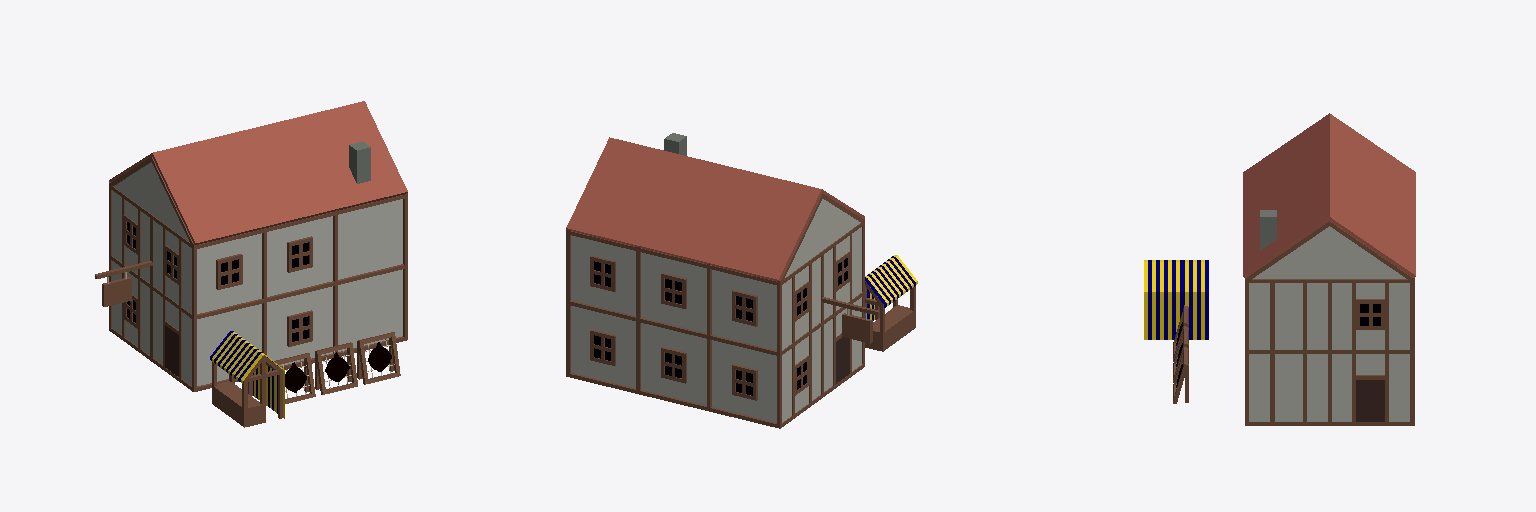
The model's file is timberframedtanner_blue_yellow.obj.
The picture shows the model from 3 angles: view 1: azimuth 30°, elevation 25°; view 2: azimuth 150°, elevation 25°; view 3: azimuth 270°, elevation 25°; orthographic projection.
Visible parts, largest first — view 1: Cube.005, Cube.007_Cube.011, Cylinder.001_Cylinder.008, Cylinder.003_Cylinder.001, Cylinder.004_Cylinder.009, Cube.011_Cube.015, Cube.018_Cube.016, Cube.056_Cube.081, Cube.001_Cube.058, Cube.013_Cube.080, Cube.006_Cube.010, Cube.026_Cube.019 (+7 smaller); view 2: Cube.005, Cube.007_Cube.011, Cube.023_Cube.026, Cube.022_Cube.025, Cube.021_Cube.024, Cube.015_Cube.020, Cube.019_Cube.022, Cube.017_Cube.021, Cube.014_Cube.018, Cube.008, Cube.020_Cube.023, Cube.073_Cube.078 (+6 smaller); view 3: Cube.005, Cube.007_Cube.011, Cube.147_Cube.153, Cube.003, Cube.033, Cube.027, Cube.047_Cube.049, Cube.016_Cube.013, Cube.031, Cube.006_Cube.010, Cube.032, Cylinder.001_Cylinder.008 (+5 smaller).
Boxes of the visible parts, <box> form: Cube.005: <box>112,162,402,385</box>; Cube.007_Cube.011: <box>109,101,407,244</box>; Cylinder.001_Cylinder.008: <box>357,332,400,384</box>; Cylinder.003_Cylinder.001: <box>315,342,357,394</box>; Cylinder.004_Cylinder.009: <box>274,353,315,403</box>; Cube.011_Cube.015: <box>195,264,406,319</box>; Cube.018_Cube.016: <box>195,195,406,249</box>; Cube.056_Cube.081: <box>216,254,242,289</box>; Cube.001_Cube.058: <box>287,310,312,346</box>; Cube.013_Cube.080: <box>287,236,312,272</box>; Cube.006_Cube.010: <box>349,141,370,183</box>; Cube.026_Cube.019: <box>192,243,196,391</box>; Cube.005: <box>571,199,861,422</box>; Cube.007_Cube.011: <box>566,137,864,280</box>; Cube.023_Cube.026: <box>567,373,779,427</box>; Cube.022_Cube.025: <box>567,301,776,355</box>; Cube.021_Cube.024: <box>567,231,777,284</box>; Cube.015_Cube.020: <box>732,290,757,326</box>; Cube.019_Cube.022: <box>661,347,686,383</box>; Cube.017_Cube.021: <box>590,330,615,365</box>; Cube.014_Cube.018: <box>661,273,686,308</box>; Cube.008: <box>590,255,615,291</box>; Cube.020_Cube.023: <box>732,364,757,400</box>; Cube.073_Cube.078: <box>842,313,872,343</box>; Cube.005: <box>1249,226,1409,421</box>; Cube.007_Cube.011: <box>1243,113,1415,277</box>; Cube.147_Cube.153: <box>1144,292,1208,339</box>; Cube.003: <box>1356,380,1384,421</box>; Cube.033: <box>1356,299,1384,329</box>; Cube.027: <box>1410,277,1414,425</box>; Cube.047_Cube.049: <box>1270,279,1274,423</box>; Cube.016_Cube.013: <box>1248,350,1410,353</box>; Cube.031: <box>1248,422,1410,425</box>; Cube.006_Cube.010: <box>1260,210,1276,249</box>; Cube.032: <box>1248,279,1410,282</box>; Cylinder.001_Cylinder.008: <box>1173,347,1188,403</box>.
Size of the model in its own units: 15.3 by 11.25 by 13.34.